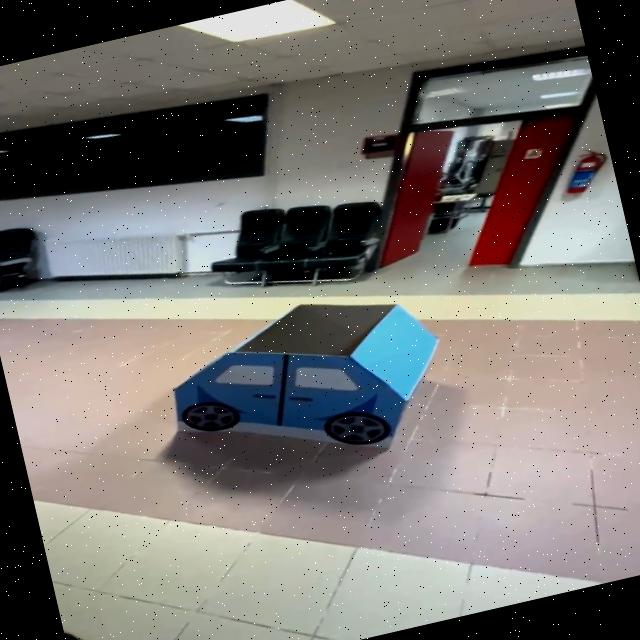blue_car: (147, 266, 468, 498)
